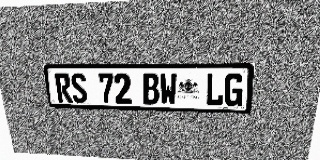2: (114, 73, 132, 104)
7: (97, 73, 115, 104)
B: (142, 73, 160, 105)
G: (224, 73, 244, 106)
L: (205, 73, 225, 106)
R: (54, 73, 73, 103)
S: (70, 73, 88, 103)
W: (159, 73, 177, 105)
